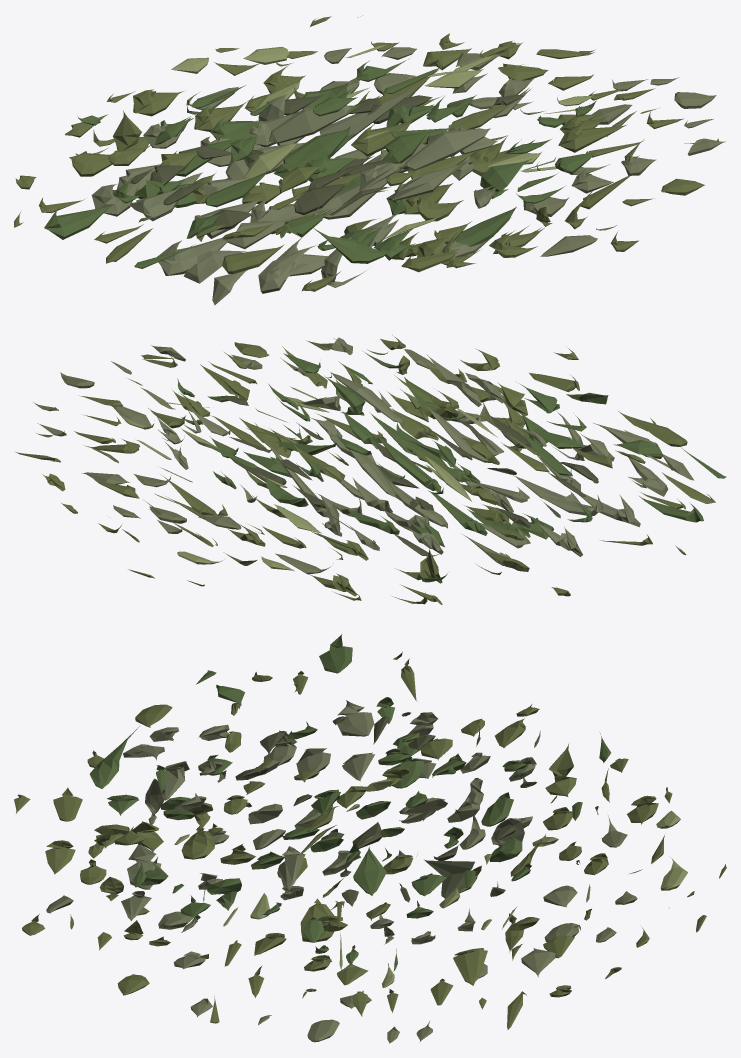
Rendered from grass_00.fbx.
The picture shows the model from 3 angles, top to bottom: view 1: azimuth 30°, elevation 25°; view 2: azimuth 150°, elevation 25°; view 3: azimuth 270°, elevation 25°; orthographic projection. The views are drawn at different scales.
Visible parts, largest first — view 1: NewLayer0; view 2: NewLayer0; view 3: NewLayer0.
Part boxes in pixels (x1,y1,x2,y2): NewLayer0: [14, 15, 725, 305]; NewLayer0: [15, 335, 726, 604]; NewLayer0: [14, 634, 726, 1043].
Size of the model in its own units: 2.26 by 0.2855 by 1.81.
